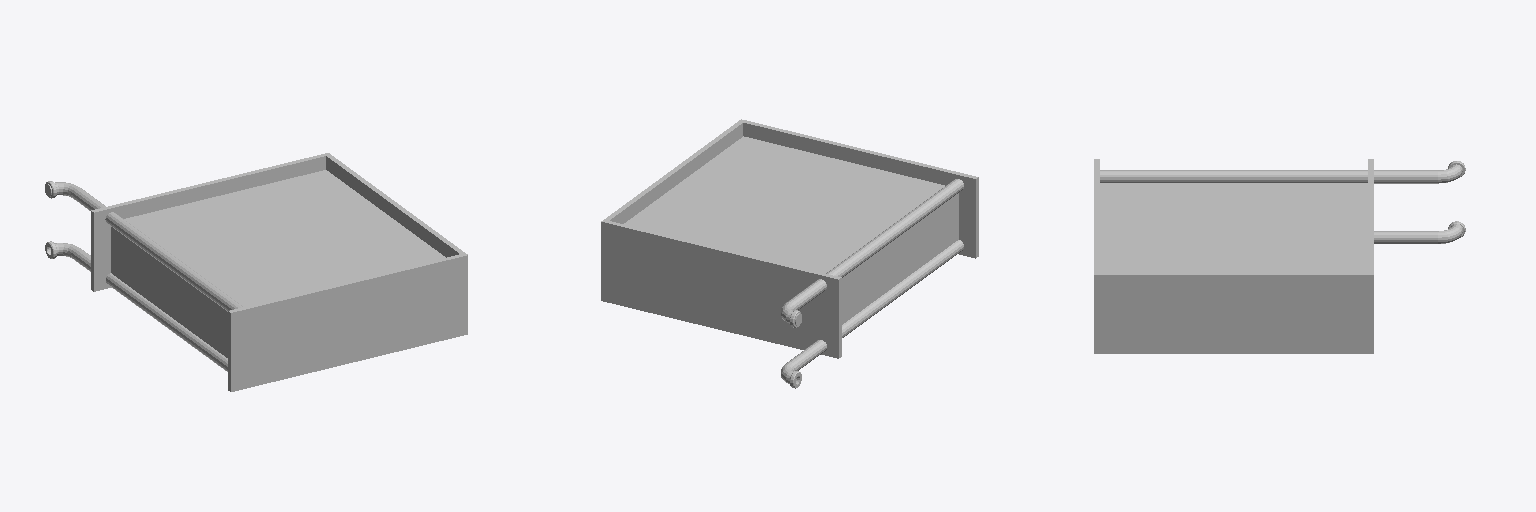
The model's file is coolingCoil_zup2.obj.
3 views of the same model, side by side, from view 1: azimuth 30°, elevation 25°; view 2: azimuth 150°, elevation 25°; view 3: azimuth 270°, elevation 25° (orthographic).
Parts seen in each view (by area): view 1: CoolingCoil_CoolingCoilGeom; view 2: CoolingCoil_CoolingCoilGeom; view 3: CoolingCoil_CoolingCoilGeom.
Boxes of the visible parts, x1,y1,x2,y2 form: CoolingCoil_CoolingCoilGeom: [45, 153, 467, 391]; CoolingCoil_CoolingCoilGeom: [601, 119, 978, 388]; CoolingCoil_CoolingCoilGeom: [1094, 159, 1465, 353].
Size of the model in its own units: 1.73 by 0.5496 by 2.33.